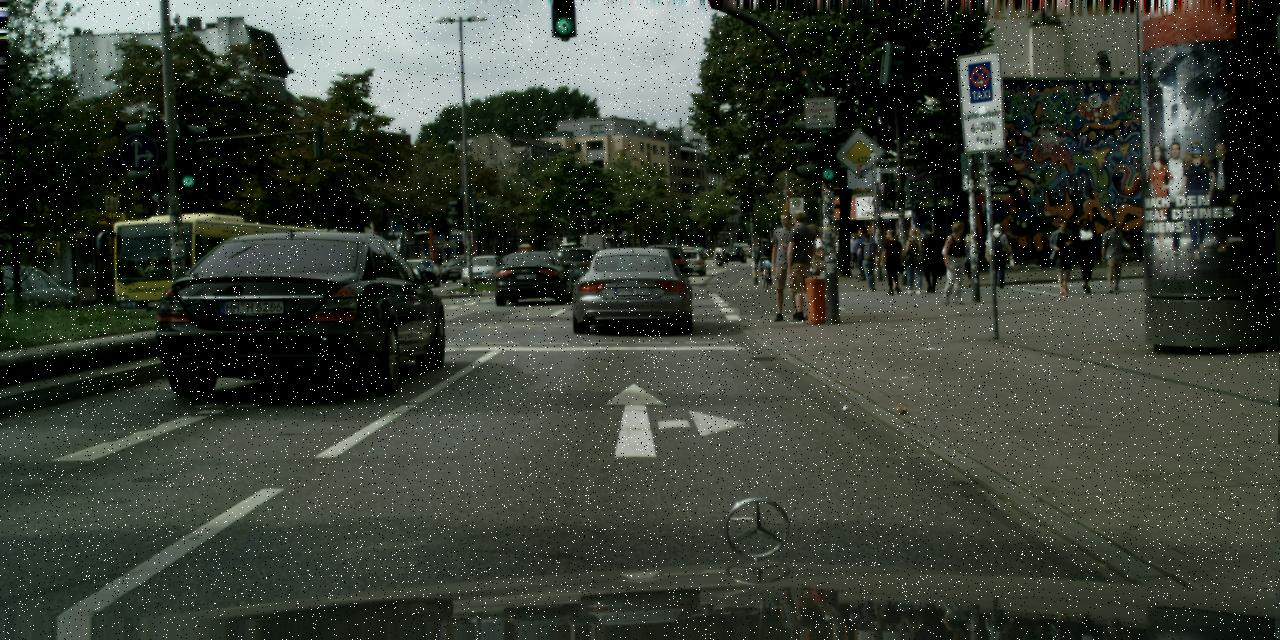ped: (779, 208, 825, 322), (765, 211, 809, 320), (938, 220, 972, 304), (798, 223, 832, 307), (1047, 217, 1079, 294), (1069, 218, 1100, 293), (1099, 219, 1128, 292), (916, 224, 944, 292), (899, 226, 927, 294), (880, 228, 906, 294), (985, 223, 1011, 285), (857, 232, 882, 291), (960, 232, 981, 288), (852, 228, 873, 281), (990, 226, 1009, 273), (846, 233, 860, 268), (759, 242, 772, 276), (833, 229, 843, 254), (435, 256, 443, 276), (695, 242, 702, 260), (718, 241, 724, 258), (717, 243, 722, 258), (679, 240, 684, 254)
